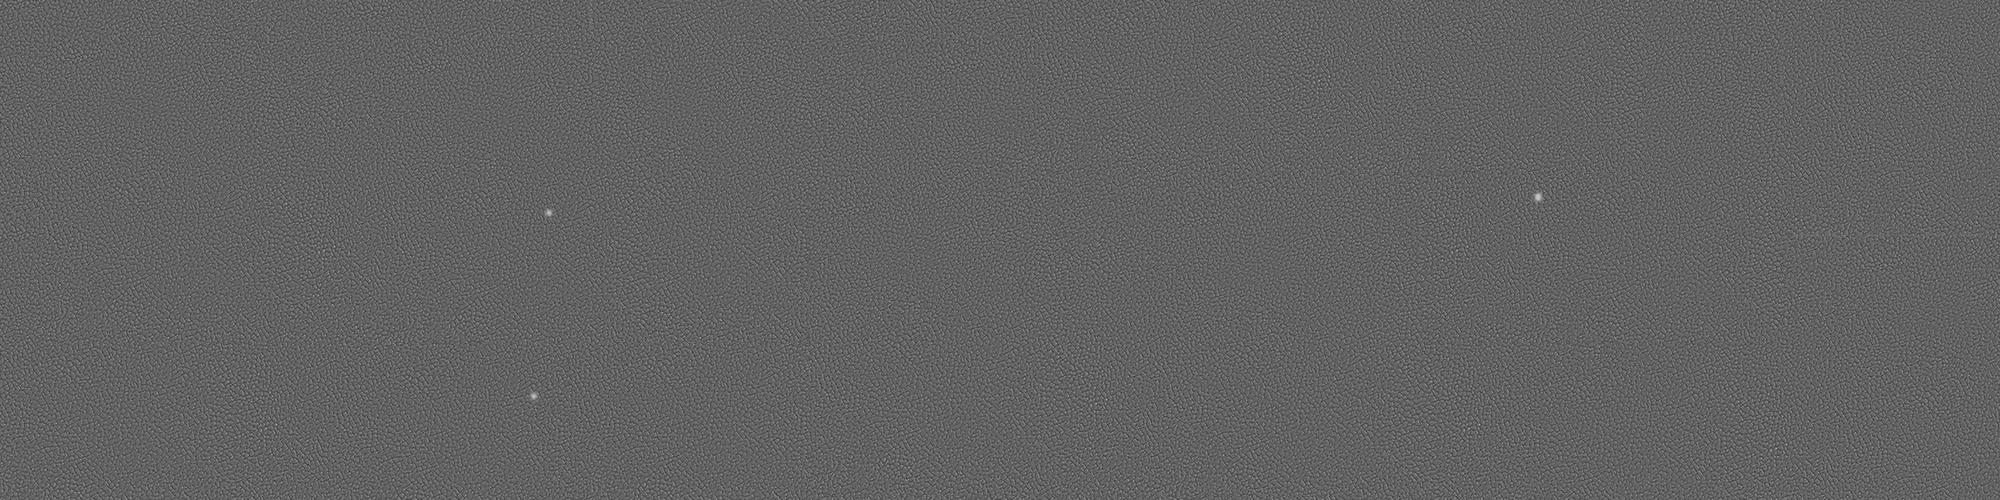Particles: (1529, 189, 1547, 205), (526, 388, 545, 403), (541, 204, 556, 221)
